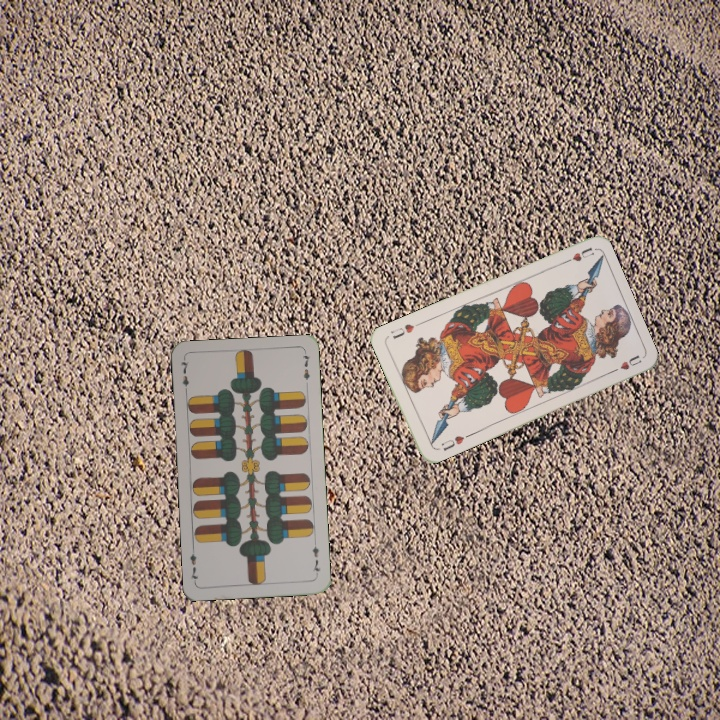E7: (308, 538, 323, 578), (177, 356, 192, 396)
HU: (558, 243, 596, 267), (438, 431, 471, 453)
